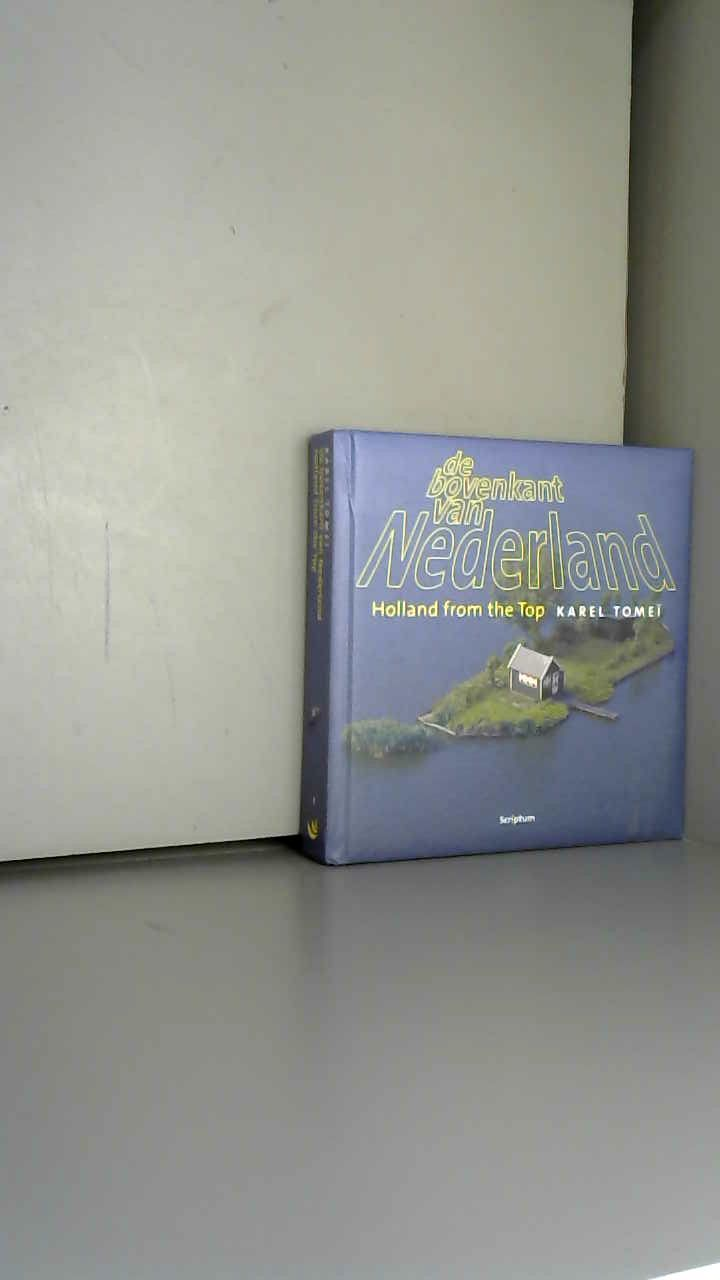book: (270, 400, 715, 891)
